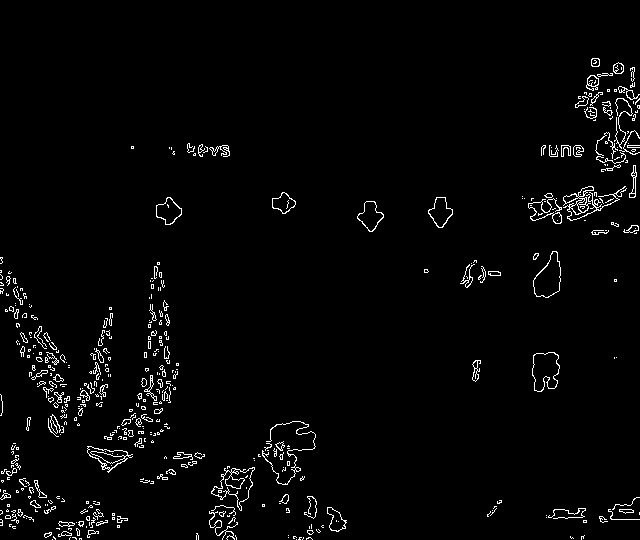down: (422, 190, 462, 235), (348, 195, 389, 236)
right: (146, 192, 192, 234), (266, 184, 307, 226)
